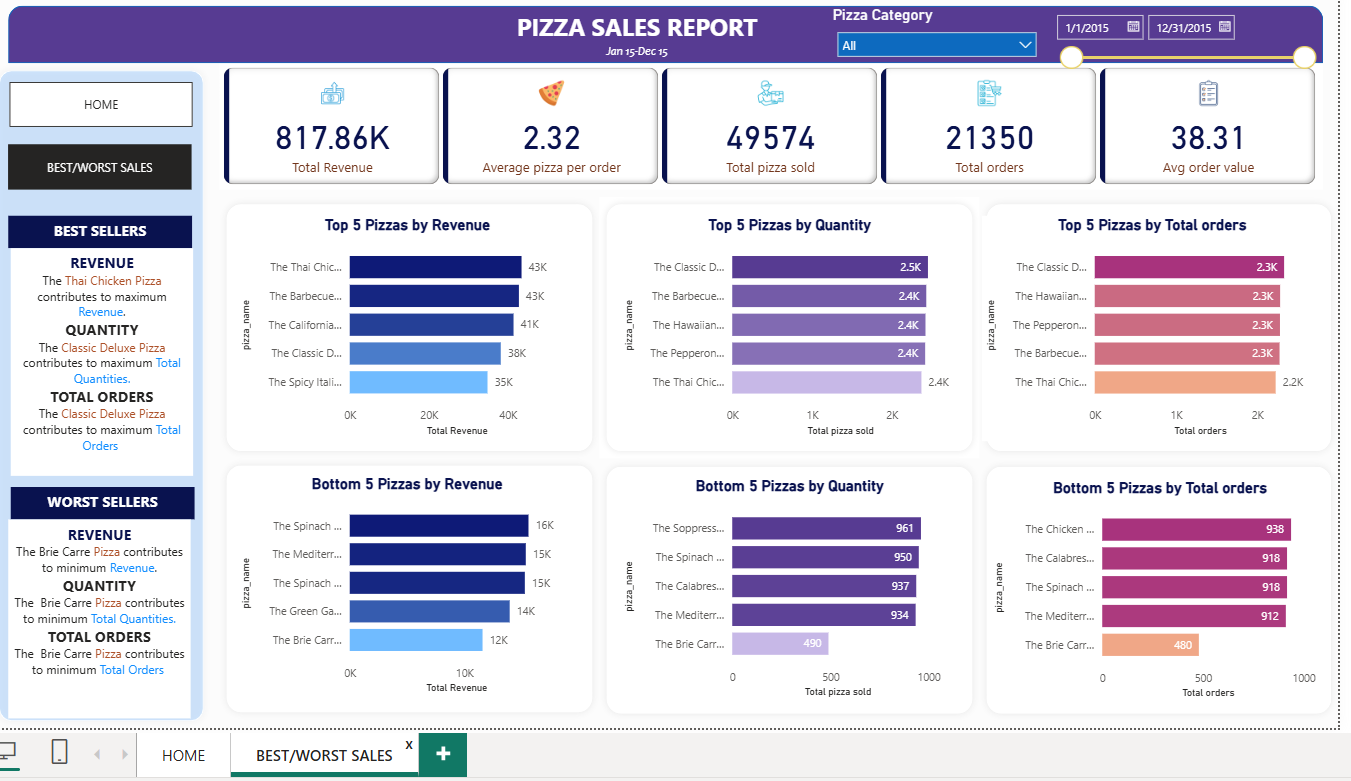

What the dashboard file says about the page in this screenshot:
{"tool":"powerbi","page":{"name":"BEST/WORST SALES","canvas":[1500,820],"ordinal":1},"visuals":[{"type":"shape","box":[0,79.4,243.7,740.9],"z":0},{"type":"cardVisual","fields":{"Data":["pizza_sales.Total Revenue","pizza_sales.Average pizza per order","pizza_sales.Total pizza sold","pizza_sales.Total orders","pizza_sales.Avg order value"]},"box":[253.5,79.4,1229.7,140.7],"z":1000},{"type":"shape","box":[18.1,15.3,1465.1,64.1],"z":2000},{"type":"textbox","box":[537.6,15.3,362.1,50.1],"z":3000},{"type":"textbox","box":[664.3,51.5,108.6,27.9],"z":4000},{"type":"shape","box":[253.5,228.4,423.4,291.1],"z":11000},{"type":"slicer","title":"Pizza Category","fields":{"Values":["pizza_sales.pizza_category"]},"box":[931.7,15.3,242.3,64.1],"z":15000},{"type":"slicer","fields":{"Values":["pizza_sales.order_date"]},"box":[1174,15.3,309.2,83.6],"z":16000},{"type":"textbox","box":[18.1,249.3,204.7,36.2],"z":18000},{"type":"textbox","box":[20.9,551.5,204.7,36.2],"z":20000},{"type":"shape","box":[676.8,228.4,423.4,291.1],"z":20001},{"type":"shape","box":[1100.2,228.4,399.7,291.1],"z":20002},{"type":"shape","box":[253.5,519.5,423.4,291.1],"z":20003},{"type":"shape","box":[676.8,520.9,423.4,291.1],"z":20004},{"type":"shape","box":[1100.2,520.9,399.7,291.1],"z":20005},{"type":"clusteredBarChart","title":"Top 5 Pizzas by Revenue","fields":{"Category":["pizza_sales.pizza_name"],"Y":["pizza_sales.Total Revenue"]},"box":[273,249.3,380.2,250.7],"z":20006},{"type":"clusteredBarChart","title":"Bottom 5 Pizzas by Revenue","fields":{"Category":["pizza_sales.pizza_name"],"Y":["pizza_sales.Total Revenue"]},"box":[273.4,537.1,379.5,249.3],"z":20007},{"type":"clusteredBarChart","title":"Top 5 Pizzas by Quantity","fields":{"Category":["pizza_sales.pizza_name"],"Y":["pizza_sales.Total pizza sold"]},"box":[699.5,249.3,379.5,250.9],"z":20008},{"type":"clusteredBarChart","title":"Bottom 5 Pizzas by Quantity","fields":{"Category":["pizza_sales.pizza_name"],"Y":["pizza_sales.Total pizza sold"]},"box":[699.5,540.3,379.5,250.9],"z":20009},{"type":"clusteredBarChart","title":"Top 5 Pizzas by Total orders","fields":{"Category":["pizza_sales.pizza_name"],"Y":["pizza_sales.Total orders"]},"box":[1103.1,249.3,379.5,250.9],"z":20011},{"type":"clusteredBarChart","title":"Bottom 5 Pizzas by Total orders","fields":{"Category":["pizza_sales.pizza_name"],"Y":["pizza_sales.Total orders"]},"box":[1111.4,541.7,380.2,250.7],"z":20012},{"type":"pageNavigator","box":[18.1,169.9,204.7,50.1],"z":20013},{"type":"pageNavigator","box":[19.5,100.3,204.7,50.1],"z":20014},{"type":"textbox","box":[20.9,285.5,203.3,253.5],"z":20015},{"type":"textbox","box":[18.1,587.7,203.3,221.4],"z":20016}]}

Visuals, with their boxes on the page's 1500x820 design canvas (x1, y1, x2, y2). These are canvas units, not pixel positions in the 1351x781 screenshot, which may show the page scaled, cropped or inside an application window:
shape: pyautogui.locateOnScreen(0, 79, 244, 820)
cardVisual - pizza_sales.Total Revenue x pizza_sales.Average pizza per order: pyautogui.locateOnScreen(254, 79, 1483, 220)
shape: pyautogui.locateOnScreen(18, 15, 1483, 79)
textbox: pyautogui.locateOnScreen(538, 15, 900, 65)
textbox: pyautogui.locateOnScreen(664, 52, 773, 79)
shape: pyautogui.locateOnScreen(254, 228, 677, 520)
"Pizza Category" slicer: pyautogui.locateOnScreen(932, 15, 1174, 79)
slicer - pizza_sales.order_date: pyautogui.locateOnScreen(1174, 15, 1483, 99)
textbox: pyautogui.locateOnScreen(18, 249, 223, 286)
textbox: pyautogui.locateOnScreen(21, 552, 226, 588)
shape: pyautogui.locateOnScreen(677, 228, 1100, 520)
shape: pyautogui.locateOnScreen(1100, 228, 1500, 520)
shape: pyautogui.locateOnScreen(254, 520, 677, 811)
shape: pyautogui.locateOnScreen(677, 521, 1100, 812)
shape: pyautogui.locateOnScreen(1100, 521, 1500, 812)
"Top 5 Pizzas by Revenue" clusteredBarChart: pyautogui.locateOnScreen(273, 249, 653, 500)
"Bottom 5 Pizzas by Revenue" clusteredBarChart: pyautogui.locateOnScreen(273, 537, 653, 786)
"Top 5 Pizzas by Quantity" clusteredBarChart: pyautogui.locateOnScreen(700, 249, 1079, 500)
"Bottom 5 Pizzas by Quantity" clusteredBarChart: pyautogui.locateOnScreen(700, 540, 1079, 791)
"Top 5 Pizzas by Total orders" clusteredBarChart: pyautogui.locateOnScreen(1103, 249, 1483, 500)
"Bottom 5 Pizzas by Total orders" clusteredBarChart: pyautogui.locateOnScreen(1111, 542, 1492, 792)
pageNavigator: pyautogui.locateOnScreen(18, 170, 223, 220)
pageNavigator: pyautogui.locateOnScreen(20, 100, 224, 150)
textbox: pyautogui.locateOnScreen(21, 286, 224, 539)
textbox: pyautogui.locateOnScreen(18, 588, 221, 809)
